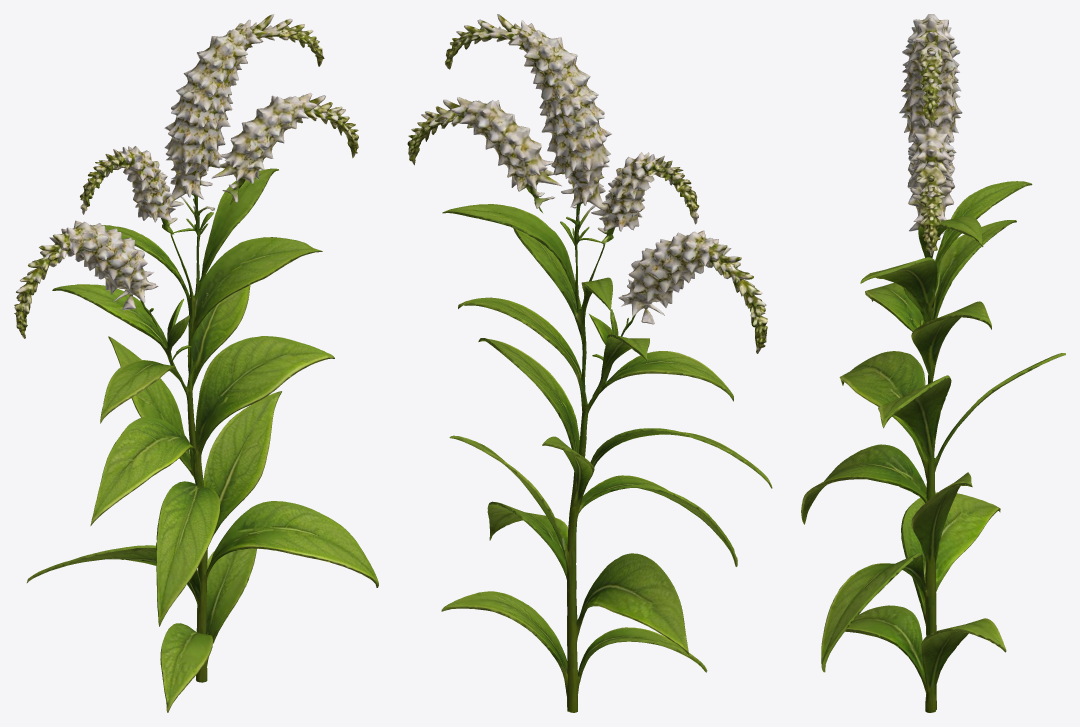
Rendered from GooseneckLoosestrife.glb.
3 renders of one model, left to right at view 1: azimuth 30°, elevation 25°; view 2: azimuth 150°, elevation 25°; view 3: azimuth 270°, elevation 25°, orthographic. The views are drawn at different scales.
Visible parts, largest first — view 1: Mesh_0; view 2: Mesh_0; view 3: Mesh_0.
Boxes of the visible parts, x1,y1,x2,y2 form: Mesh_0: (14,14,378,712); Mesh_0: (407,14,772,712); Mesh_0: (801,14,1065,712).
Bounding box in the file's own units: 0.555 × 1 × 0.3347.
Materials: 1 (1 with a texture image).
